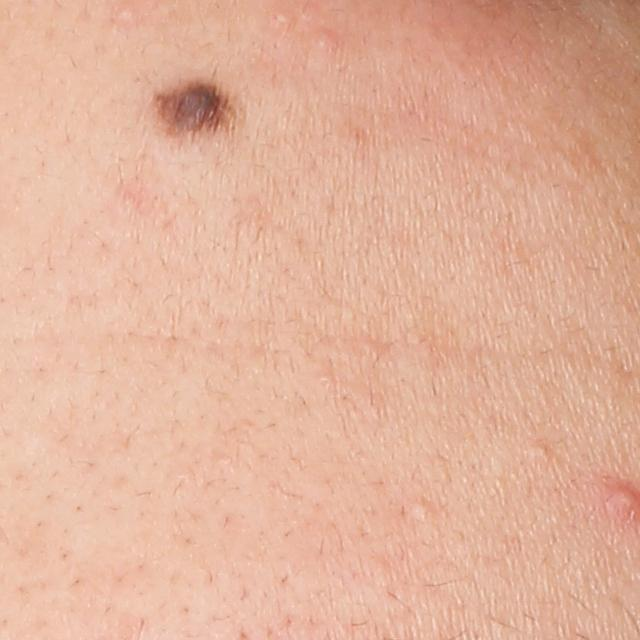comedo: (410, 497, 438, 526), (111, 3, 139, 27), (266, 7, 296, 29), (528, 442, 552, 457)
nevus: (152, 81, 245, 144)
